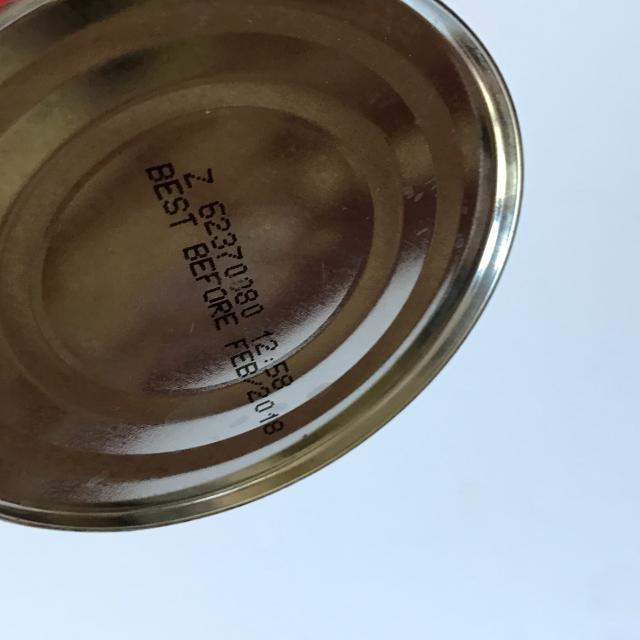metal: (0, 0, 525, 533)
